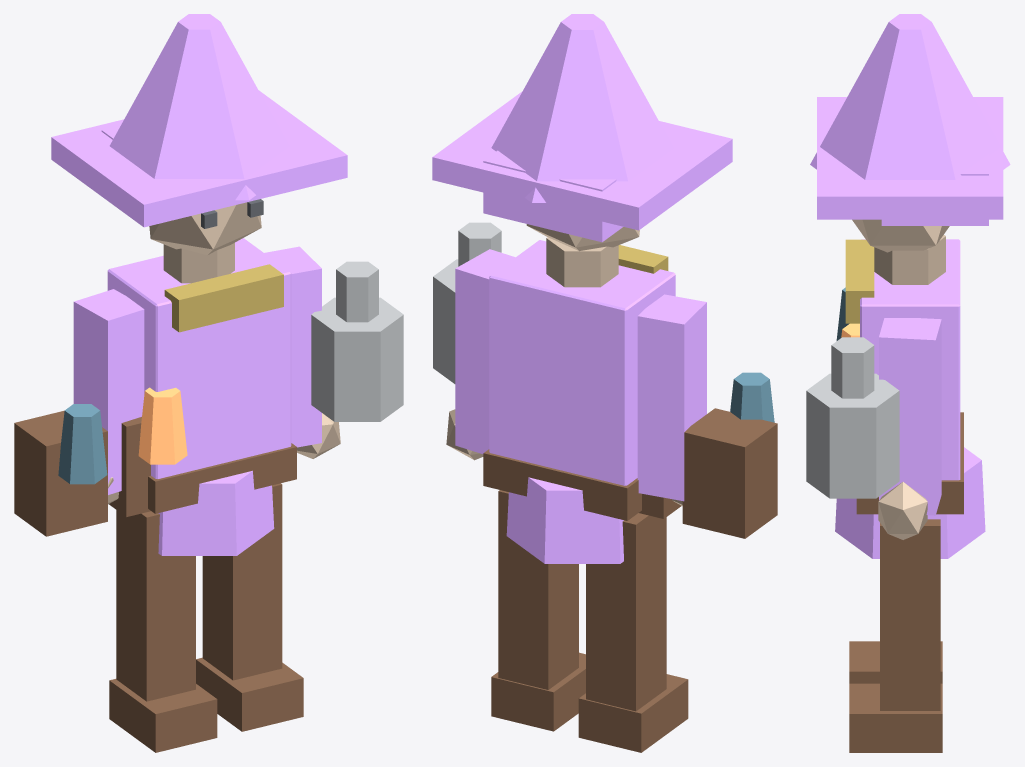
File: npc_alchemist.glb
3 views of the same model, side by side, from view 1: azimuth 30°, elevation 25°; view 2: azimuth 150°, elevation 25°; view 3: azimuth 270°, elevation 25° (orthographic).
Visible parts, largest first — view 1: torso; view 2: torso; view 3: torso.
Part boxes in pixels (left/top/right/bottom): torso: left=14, top=14, right=403, bottom=752; torso: left=432, top=14, right=777, bottom=752; torso: left=806, top=14, right=1010, bottom=752.
Bounding box in the file's own units: 1.09 × 2.14 × 0.57.
